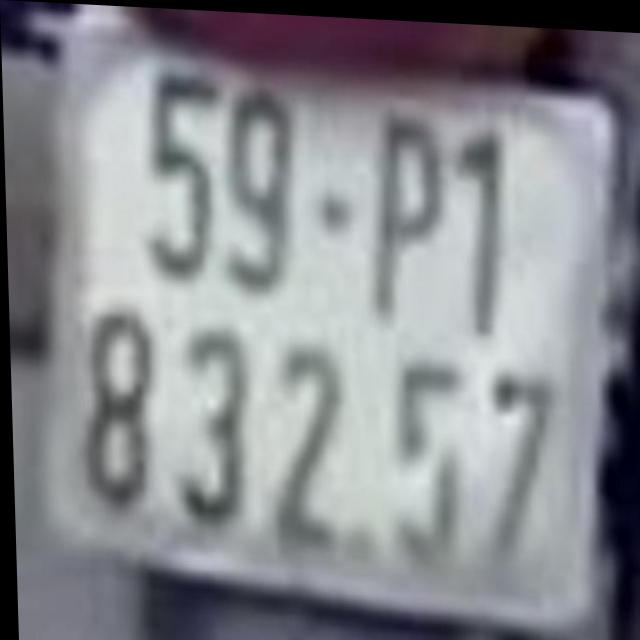1: (451, 122, 511, 333)
2: (263, 353, 336, 537)
3: (173, 326, 247, 516)
5: (388, 353, 460, 545), (148, 74, 215, 272)
7: (467, 347, 556, 561)
8: (84, 309, 151, 502)
9: (217, 83, 290, 286)
P: (362, 103, 442, 317)
